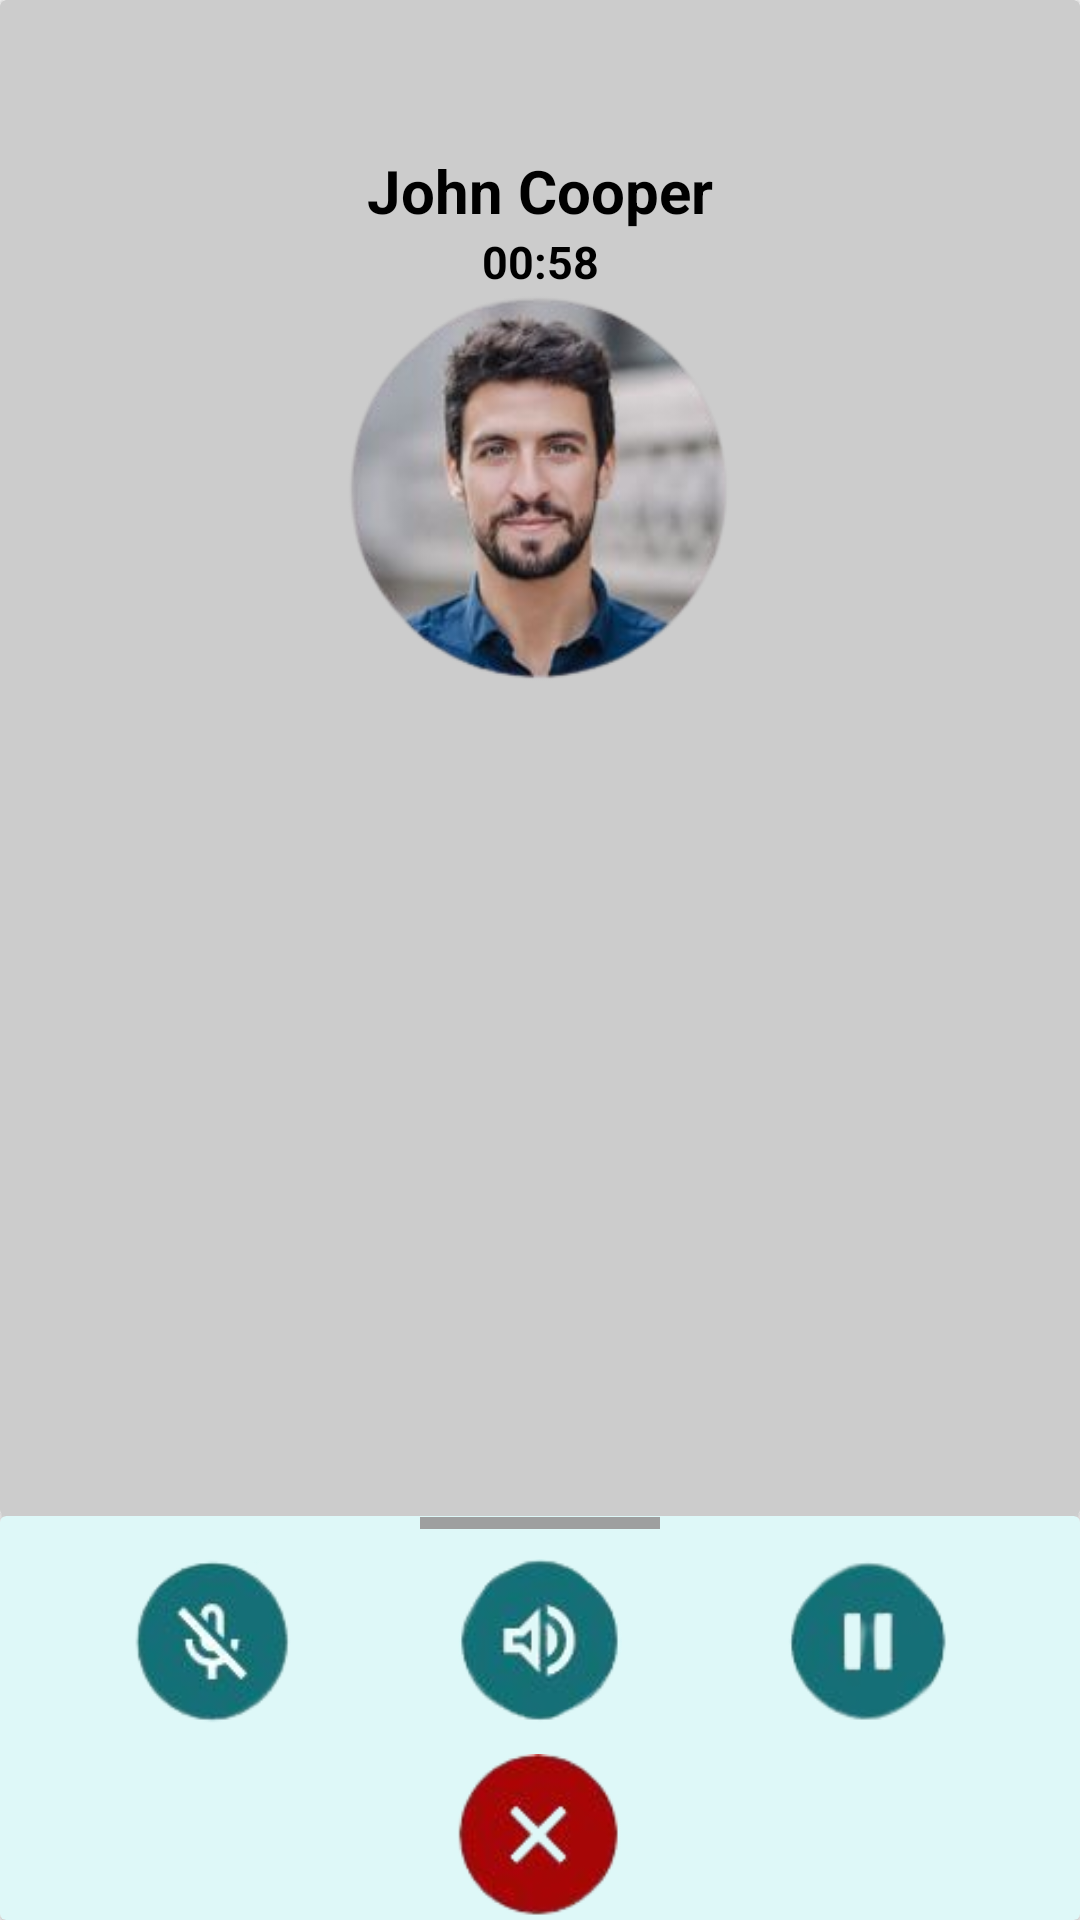

Icons on this 1080w x 1920h Android screen, each with its box as (x1, y1, x2, y2):
call end: (458, 1754, 618, 1915)
call hold: (791, 1563, 946, 1720)
call speaker: (461, 1560, 618, 1720)
call voice: (136, 1562, 288, 1721)
